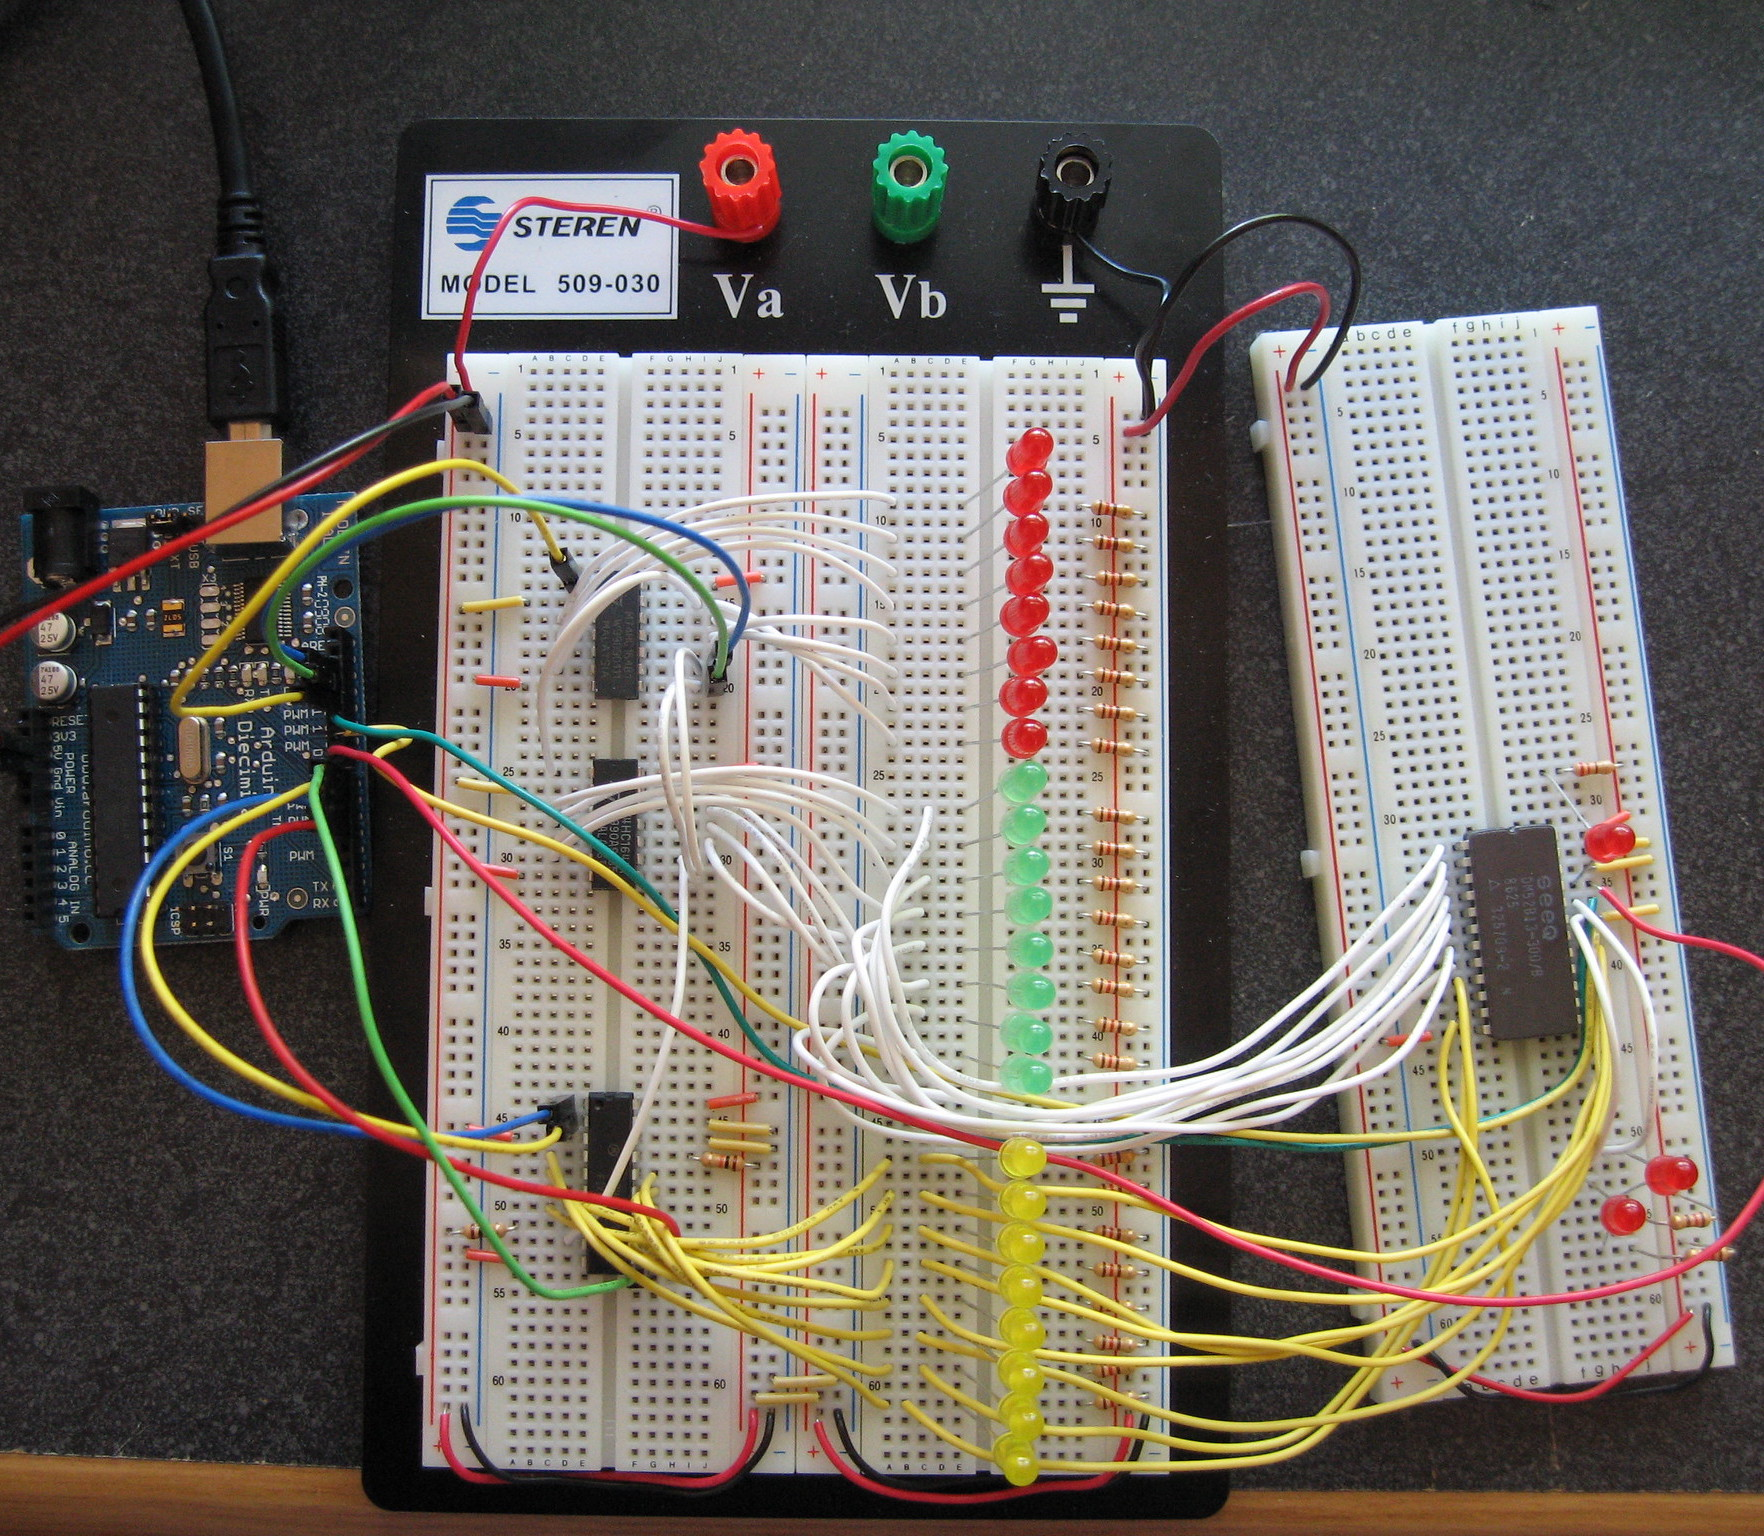LED: (1000, 466, 1056, 517), (997, 589, 1054, 639), (1003, 633, 1060, 679), (1642, 1153, 1701, 1198), (1003, 427, 1056, 477), (1582, 819, 1638, 864), (1000, 511, 1051, 559), (997, 760, 1050, 805), (1003, 553, 1057, 597), (994, 1432, 1038, 1486), (997, 1348, 1045, 1396), (999, 1054, 1054, 1095), (997, 1393, 1044, 1441), (997, 1306, 1047, 1351), (997, 675, 1048, 718), (1000, 1012, 1051, 1056), (997, 1135, 1048, 1179), (1000, 802, 1048, 847), (999, 715, 1048, 759), (997, 1222, 1047, 1266), (1599, 1194, 1648, 1237), (997, 1266, 1045, 1309), (997, 1180, 1047, 1222), (1006, 972, 1057, 1009), (1003, 886, 1051, 925), (1002, 847, 1048, 886), (1005, 931, 1054, 967)
Resistor: (693, 1147, 750, 1174), (1090, 1387, 1143, 1414), (1089, 943, 1138, 970), (1087, 736, 1138, 760), (1090, 1051, 1140, 1075), (1089, 805, 1141, 828), (1090, 976, 1138, 1000), (1090, 598, 1138, 622), (1089, 1357, 1140, 1380), (1665, 1209, 1716, 1231), (1092, 664, 1138, 688), (1092, 700, 1141, 723), (1569, 756, 1618, 778), (459, 1221, 511, 1242), (1680, 1245, 1732, 1266), (1090, 873, 1138, 895), (1092, 1015, 1141, 1036), (1093, 907, 1138, 930), (1089, 1147, 1137, 1168), (1092, 838, 1138, 859), (1092, 634, 1138, 655), (1090, 1333, 1140, 1353), (1092, 568, 1141, 588), (1090, 499, 1135, 520), (1093, 1224, 1140, 1243), (1090, 534, 1137, 553), (1090, 1261, 1138, 1279), (1096, 1177, 1138, 1197), (1090, 1297, 1138, 1312)
